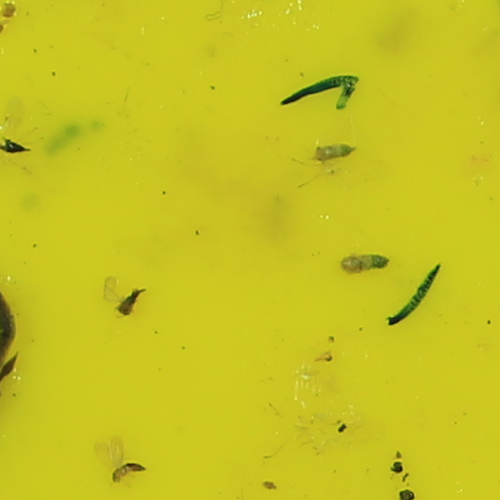Glycaspis: (339, 249, 387, 274), (315, 141, 356, 163)
psylla: (111, 462, 145, 484), (118, 287, 145, 313)
